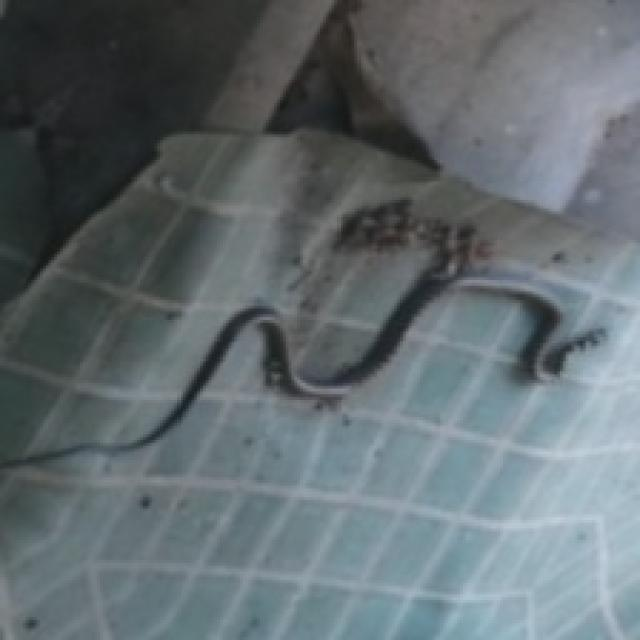paradise tree snake: (0, 197, 603, 469), (43, 263, 191, 374), (137, 200, 251, 280), (0, 351, 134, 400)
